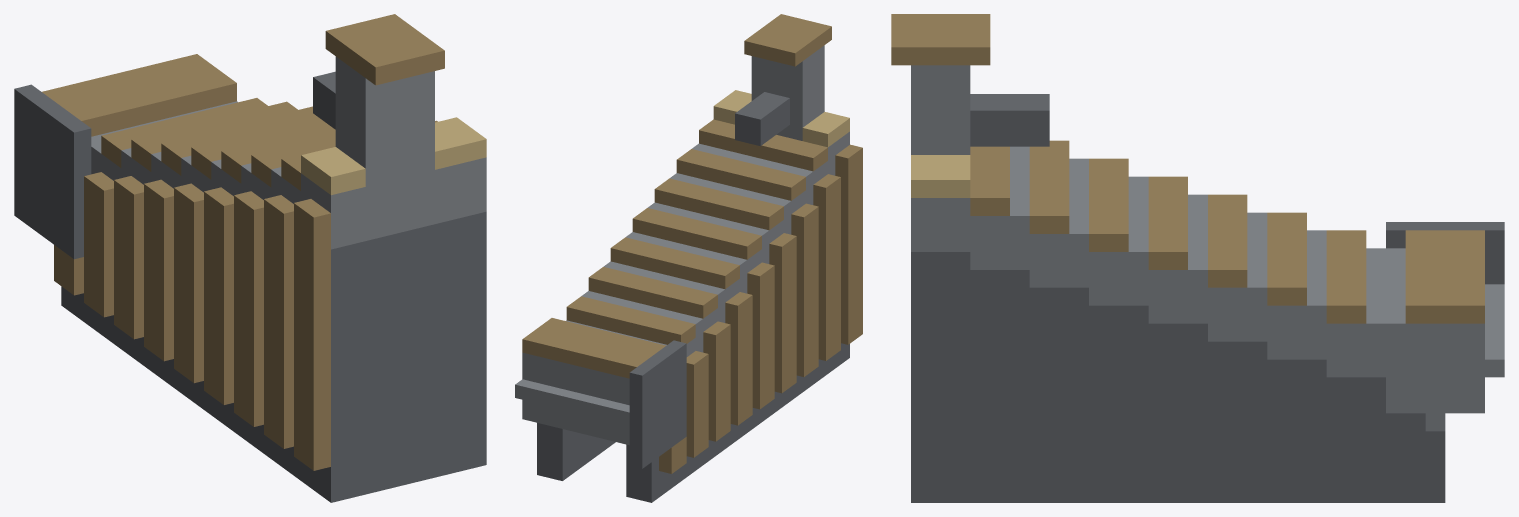
Rendered from bellows_left.glb.
3 views of the same model, side by side, from view 1: azimuth 30°, elevation 25°; view 2: azimuth 150°, elevation 25°; view 3: azimuth 270°, elevation 25° (orthographic). The views are drawn at different scales.
Bounding box in the file's own units: 10 × 24 × 31.
